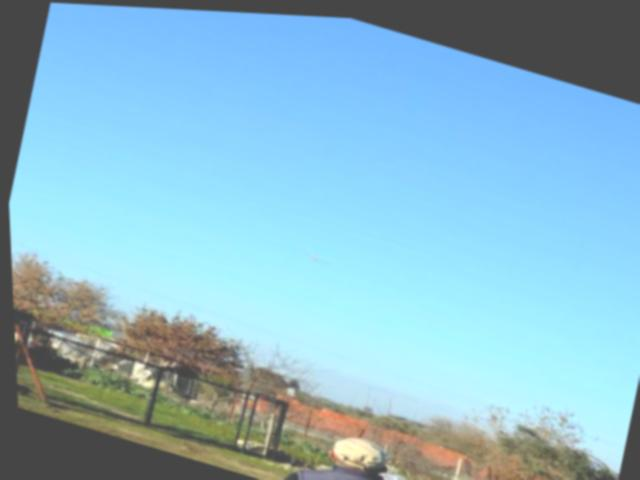iha: (296, 247, 328, 261)
